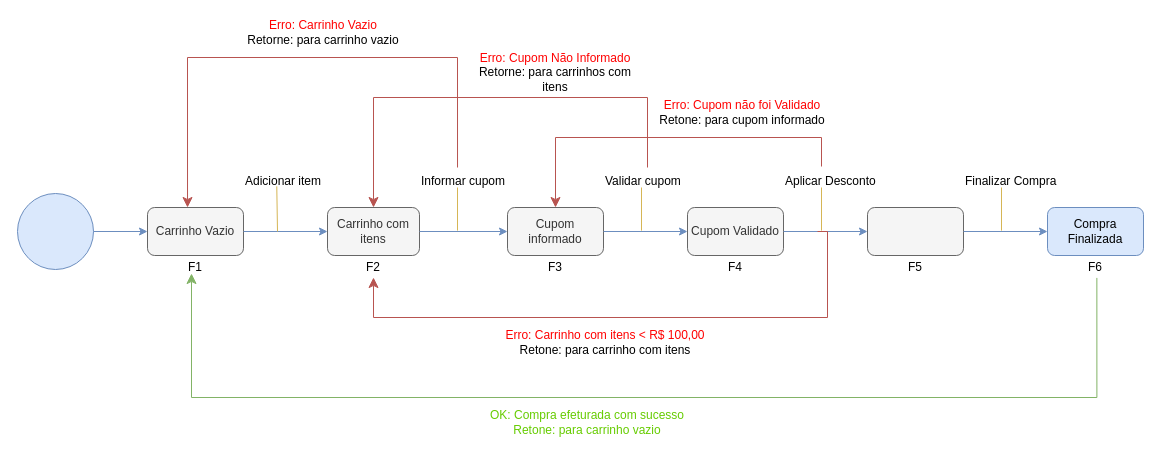
The diagram is 1161 pixels wide and 454 high, and some of its shapes have lost their labels. The centre of each missing label's shape, as x and y in pixels:
"Desconto aplicado" belongs at point 915,231.
"Start" belongs at point 55,231.
